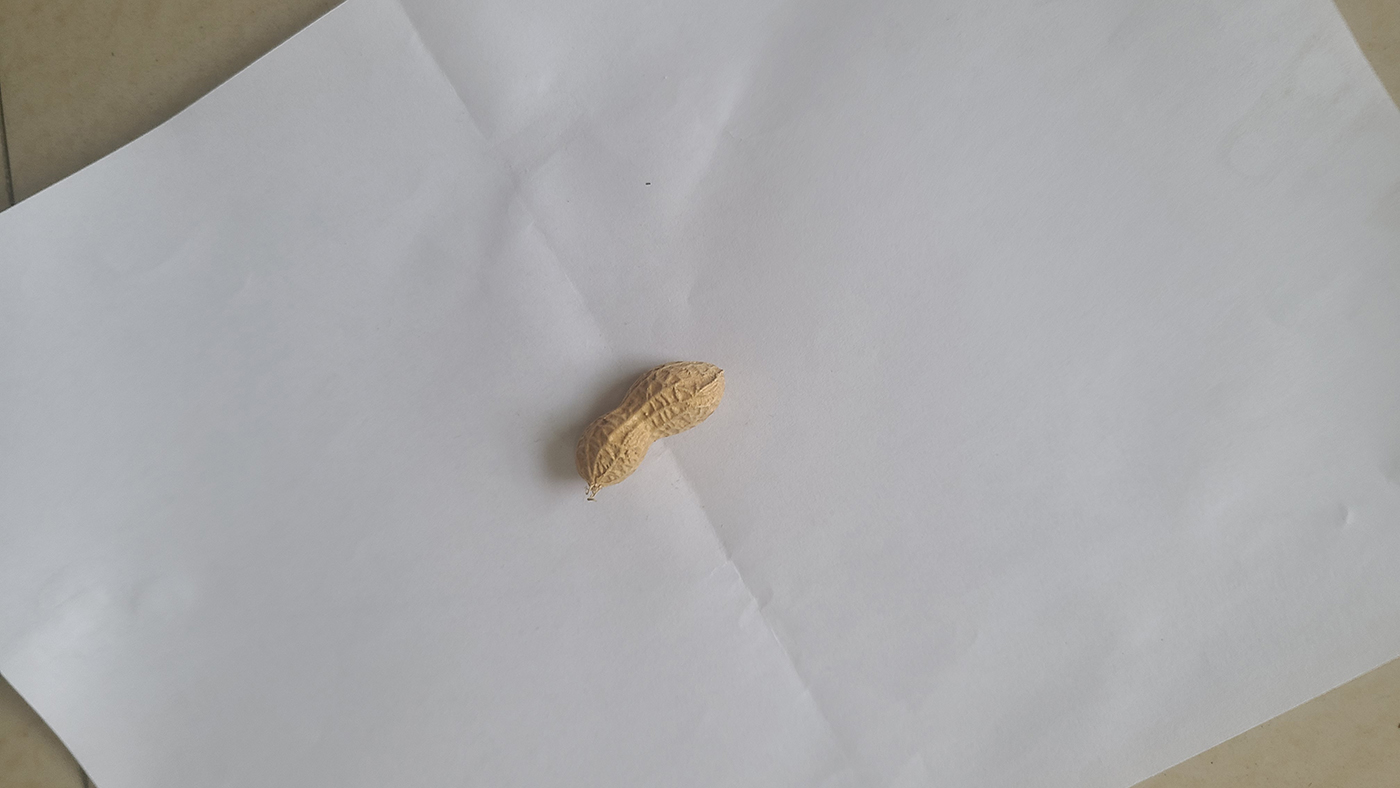h: (575, 360, 727, 488)
